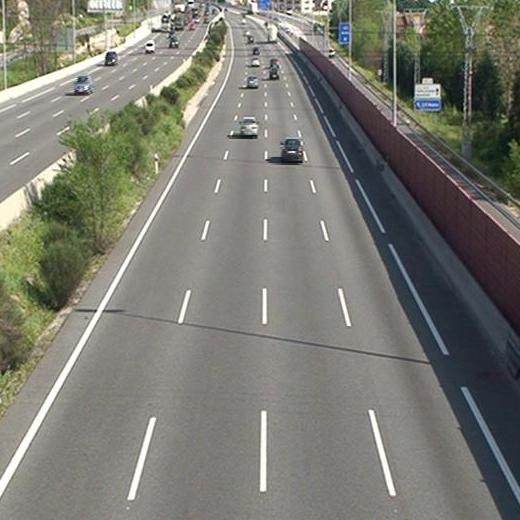car: (282, 138, 302, 161), (240, 116, 258, 135), (246, 74, 258, 87), (269, 66, 278, 78), (251, 56, 259, 67), (269, 58, 279, 66)
